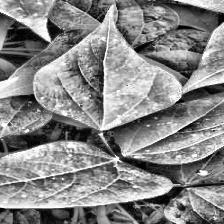Bean Rust: (33, 6, 184, 130), (0, 143, 174, 212), (118, 91, 224, 163), (181, 16, 224, 94), (0, 0, 58, 40), (0, 72, 22, 136)
